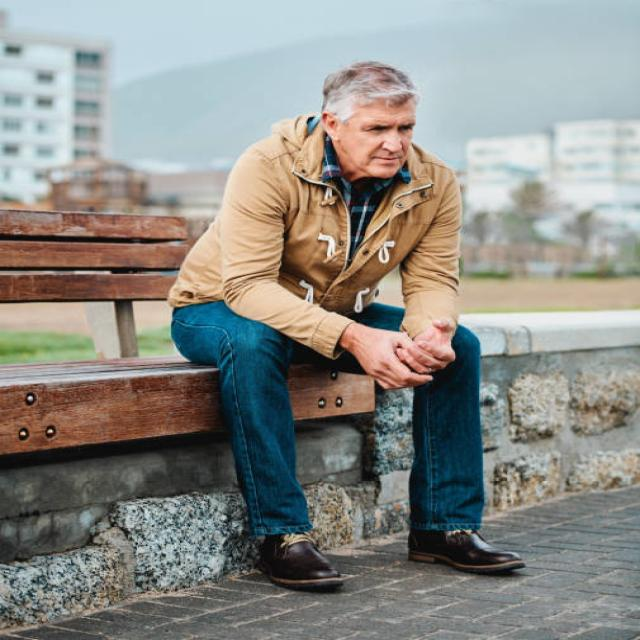Real human 2: (154, 48, 543, 586)
